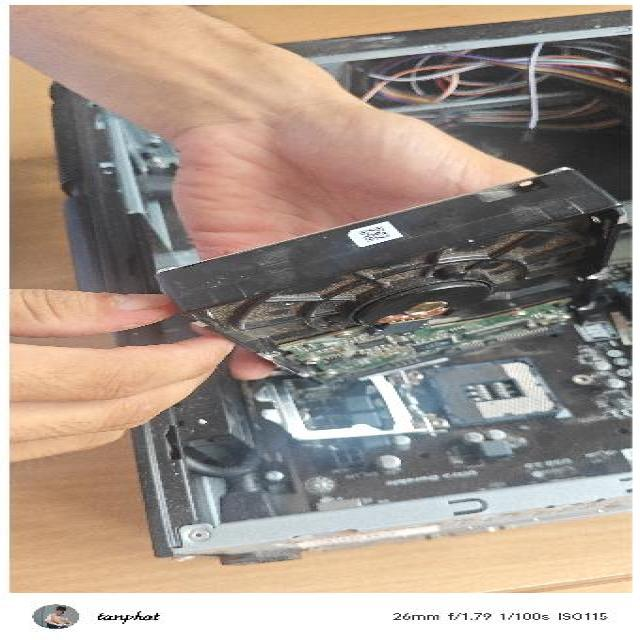DISK: (146, 160, 630, 395)
